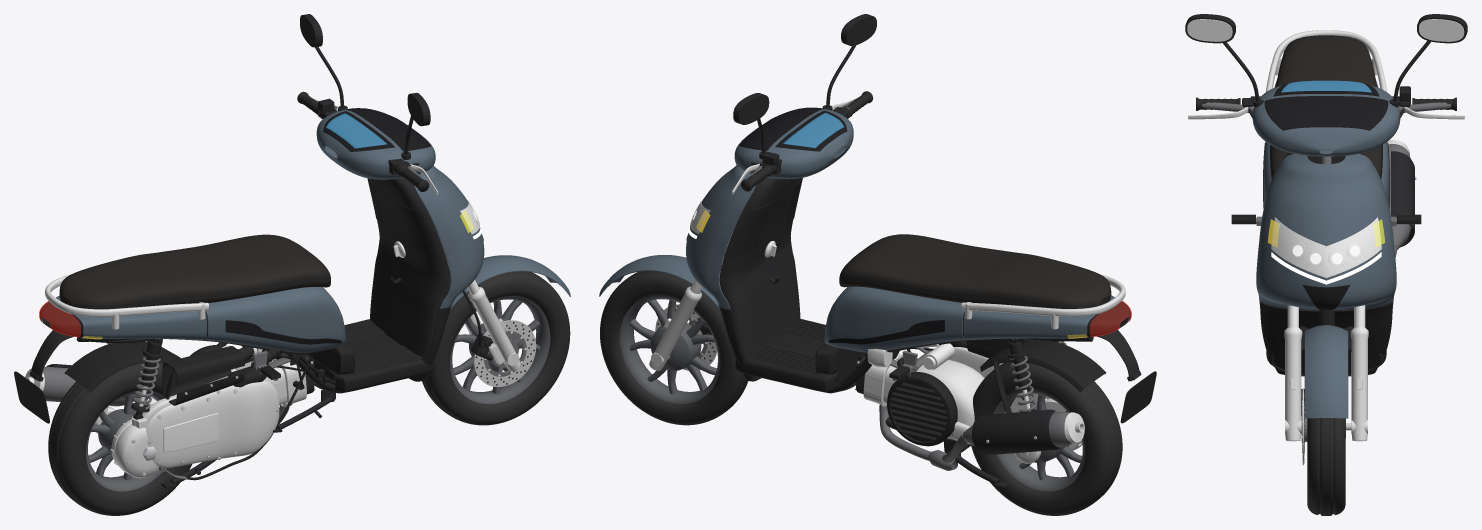
File: bike_scooter.glb
3 renders of one model, left to right at view 1: azimuth 30°, elevation 25°; view 2: azimuth 150°, elevation 25°; view 3: azimuth 270°, elevation 25°, orthographic. The views are drawn at different scales.
Parts seen in each view (by area): view 1: frame_body__seat, frame_body__leg_shield, wheels__front_wheel__tyre, wheels__rear_wheel__tyre, powertrain__cvt__cover, frame_body__side_panels, frame_body__front_shield, frame_body__tail_cowl, frame_body__handlebar_cowl, frame_body__rear_hugger, frame_body__floorboard, wheels__front_wheel__rim (+26 smaller); view 2: frame_body__seat, wheels__rear_wheel__tyre, frame_body__leg_shield, wheels__front_wheel__tyre, frame_body__side_panels, frame_body__front_shield, powertrain__exhaust__heat_shield, frame_body__tail_cowl, wheels__front_wheel__cast_spokes, frame_body__rear_hugger, frame_body__handlebar_cowl, powertrain__engine__radiator_cover (+27 smaller); view 3: frame_body__front_shield, frame_body__seat, frame_body__handlebar_cowl, electrical__instruments, frame_body__front_mudguard, wheels__front_wheel__tyre, frame_body__front_lower_cover, electrical__headlight__reflector, electrical__headlight__lens, chassis__handlebar__mirrors, chassis__front_fork__left_slider, chassis__front_fork__right_slider (+14 smaller).
Boxes of the visible parts, box(x1,y1,x2,y2) form: frame_body__seat: box(59, 234, 330, 308); frame_body__leg_shield: box(369, 178, 450, 381); wheels__front_wheel__tyre: box(422, 271, 570, 425); wheels__rear_wheel__tyre: box(48, 362, 192, 515); powertrain__cvt__cover: box(145, 380, 279, 467); frame_body__side_panels: box(204, 287, 345, 352); frame_body__front_shield: box(413, 165, 484, 309); frame_body__tail_cowl: box(41, 295, 206, 340); frame_body__handlebar_cowl: box(316, 109, 435, 179); frame_body__rear_hugger: box(64, 341, 180, 399); frame_body__floorboard: box(305, 334, 434, 393); wheels__front_wheel__rim: box(450, 296, 550, 403); frame_body__seat: box(839, 234, 1111, 308); wheels__rear_wheel__tyre: box(971, 362, 1122, 515); frame_body__leg_shield: box(719, 177, 801, 381); wheels__front_wheel__tyre: box(600, 271, 748, 425); frame_body__side_panels: box(824, 286, 965, 352); frame_body__front_shield: box(686, 165, 756, 308); powertrain__exhaust__heat_shield: box(972, 409, 1060, 455); frame_body__tail_cowl: box(963, 295, 1128, 340); wheels__front_wheel__cast_spokes: box(629, 299, 716, 394); frame_body__rear_hugger: box(980, 340, 1106, 413); frame_body__handlebar_cowl: box(734, 109, 853, 179); powertrain__engine__radiator_cover: box(887, 372, 957, 446); frame_body__front_shield: box(1256, 153, 1396, 310); frame_body__seat: box(1270, 35, 1382, 176); frame_body__handlebar_cowl: box(1252, 85, 1400, 156); electrical__instruments: box(1264, 83, 1388, 130); frame_body__front_mudguard: box(1304, 325, 1348, 418); wheels__front_wheel__tyre: box(1307, 418, 1345, 515); frame_body__front_lower_cover: box(1259, 300, 1393, 376); electrical__headlight__reflector: box(1271, 217, 1381, 277); electrical__headlight__lens: box(1273, 221, 1379, 275); chassis__handlebar__mirrors: box(1185, 14, 1467, 43); chassis__front_fork__left_slider: box(1284, 327, 1302, 441); chassis__front_fork__right_slider: box(1350, 327, 1368, 441).
Size of the model in its own units: 191 by 134 by 80.77.
